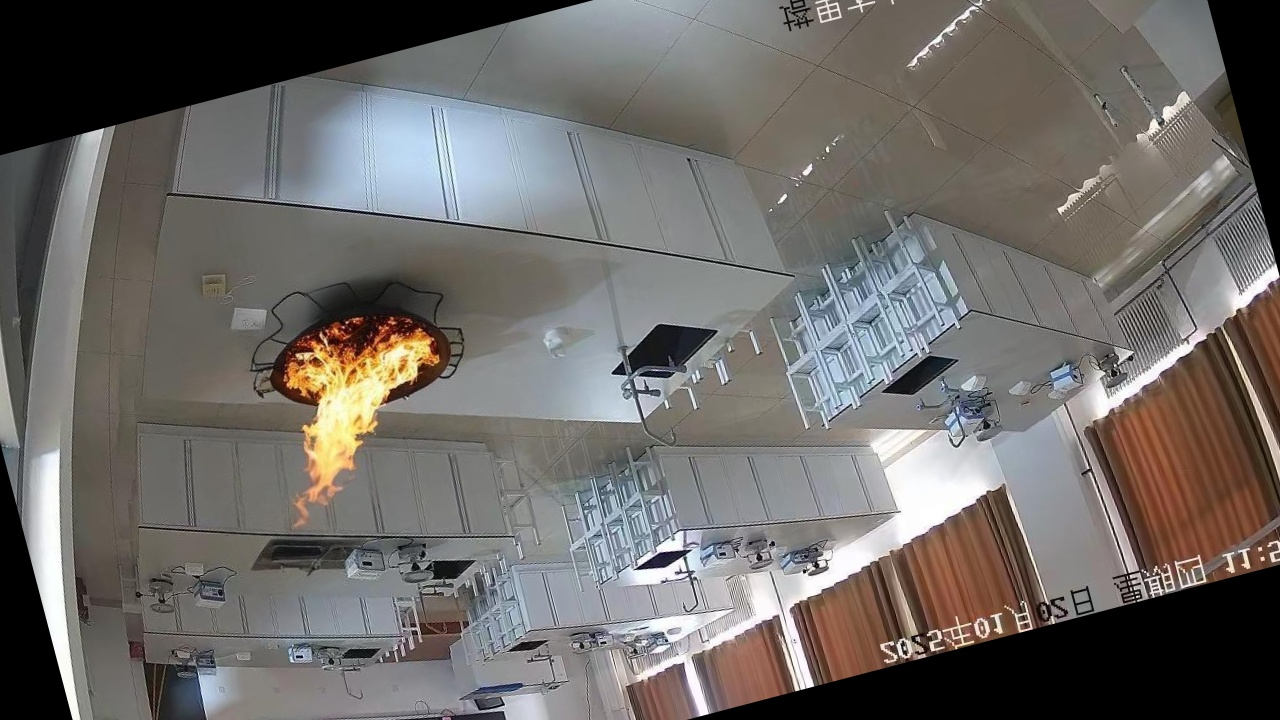fire: (220, 258, 508, 556)
